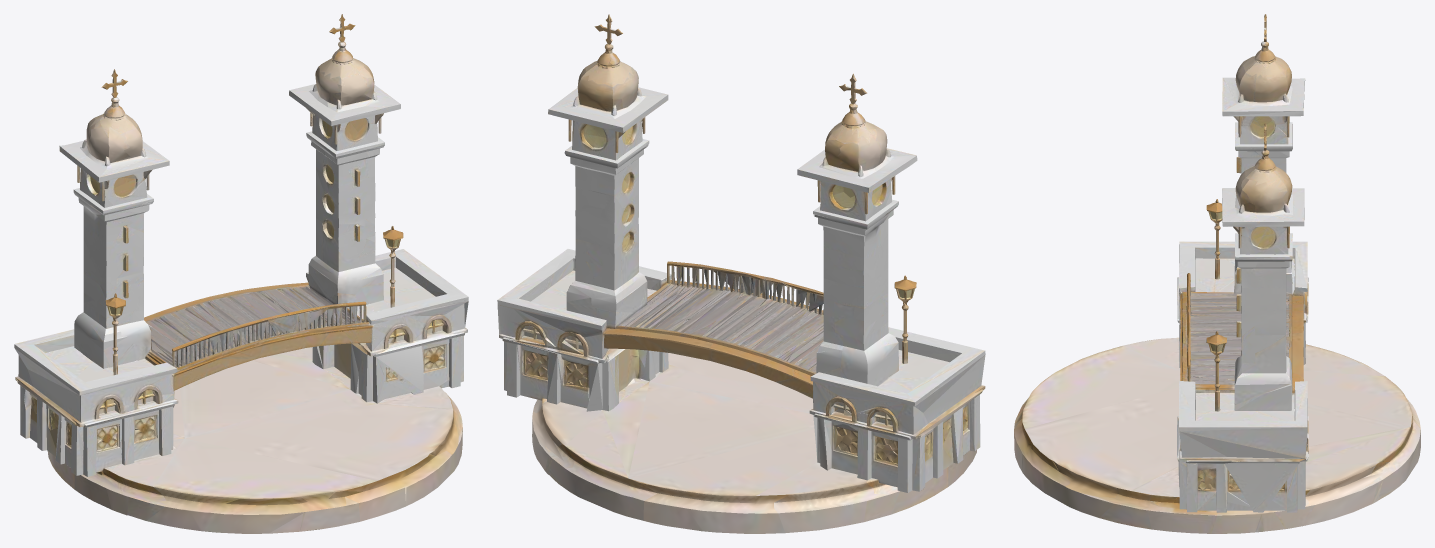
Rendered from hub_skybridge.glb.
The picture shows the model from 3 angles, left to right: view 1: azimuth 30°, elevation 25°; view 2: azimuth 150°, elevation 25°; view 3: azimuth 270°, elevation 25°; orthographic projection. The views are drawn at different scales.
Size of the model in its own units: 1.9 by 1.8 by 1.75.
Materials: 1 (1 with a texture image).
